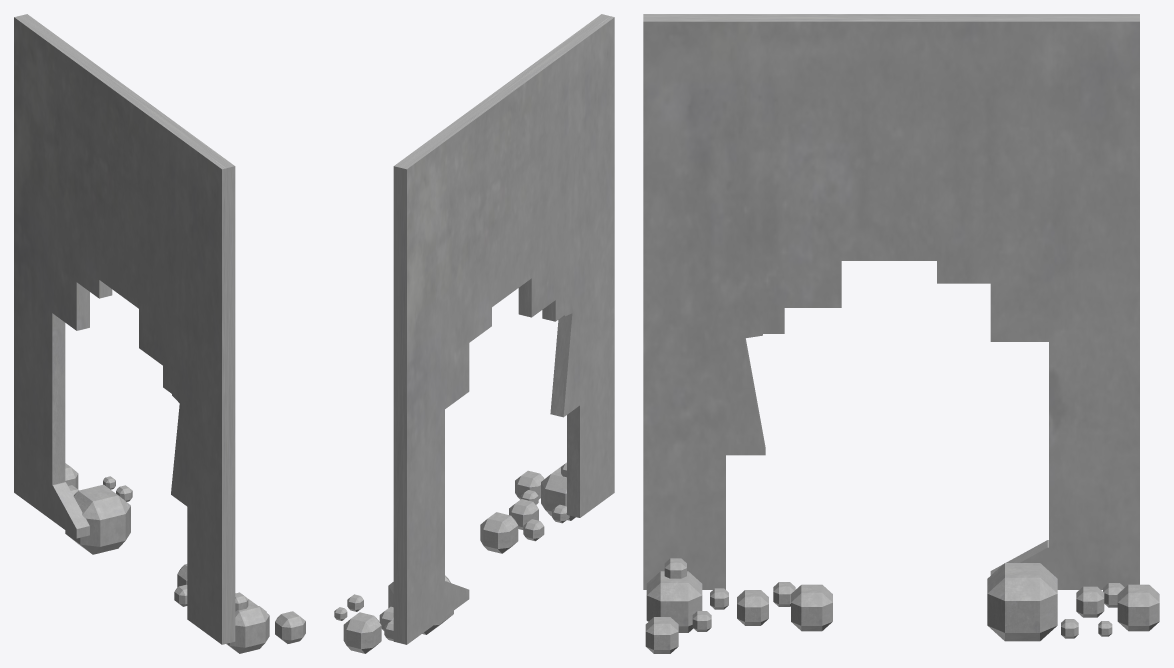
Rendered from -oud.fbx.
The picture shows the model from 3 angles, left to right: view 1: azimuth 30°, elevation 25°; view 2: azimuth 150°, elevation 25°; view 3: azimuth 270°, elevation 25°; orthographic projection. The views are drawn at different scales.
Parts seen in each view (by area): view 1: pasted__pasted__group6_pasted__pasted__group5_pasted__pasted; view 2: pasted__pasted__group6_pasted__pasted__group5_pasted__pasted; view 3: pasted__pasted__group6_pasted__pasted__group5_pasted__pasted.
Part boxes in pixels (box(x1,y1,x2,y2)): pasted__pasted__group6_pasted__pasted__group5_pasted__pasted: box(14, 14, 305, 653); pasted__pasted__group6_pasted__pasted__group5_pasted__pasted: box(334, 14, 614, 653); pasted__pasted__group6_pasted__pasted__group5_pasted__pasted: box(643, 14, 1159, 653).
Size of the model in its own units: 1.28 by 6.96 by 5.43.
1 material, 1 textured.
